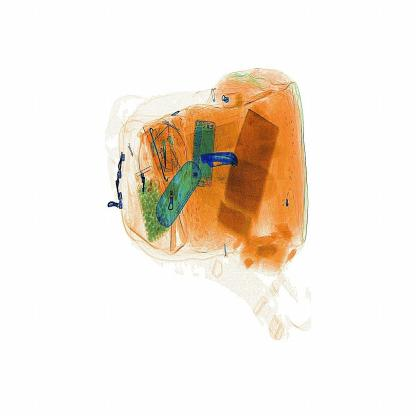knife: (196, 135, 244, 175)
